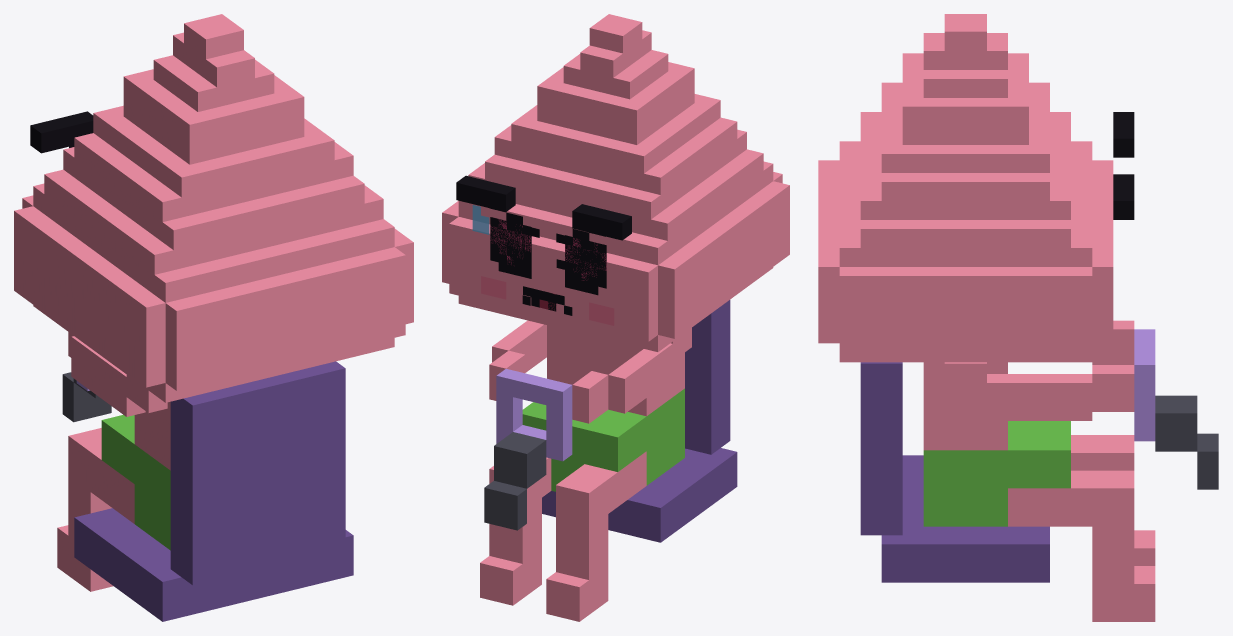
Rendered from personaje_patricio_piloto.obj.
3 views of the same model, side by side, from view 1: azimuth 30°, elevation 25°; view 2: azimuth 150°, elevation 25°; view 3: azimuth 270°, elevation 25° (orthographic). The views are drawn at different scales.
Visible parts, largest first — view 1: cabeza, asiento, falda, manga_izq, bota_izq, muslo_izq, cejas, torso, volante_columna, suela_izq, bota_izq_borde, brazo_izq; view 2: cabeza, asiento, falda, bota_izq, volante, torso, volante_columna, bota_der, cara_feliz_ojos, cejas, manga_izq, muslo_izq (+13 smaller); view 3: cabeza, asiento, falda, bota_der, torso, manga_der, muslo_der, volante_columna, volante, cejas, mano_der, brazo_der (+7 smaller).
Part boxes in pixels (left/top/right/bottom): cabeza: left=14, top=14, right=413, bottom=402; asiento: left=74, top=361, right=353, bottom=621; falda: left=101, top=414, right=170, bottom=550; manga_izq: left=82, top=344, right=145, bottom=416; bota_izq: left=57, top=456, right=111, bottom=571; muslo_izq: left=90, top=449, right=134, bottom=523; cejas: left=30, top=111, right=93, bottom=153; torso: left=134, top=401, right=170, bottom=470; volante_columna: left=62, top=372, right=111, bottom=422; suela_izq: left=57, top=548, right=113, bottom=591; bota_izq_borde: left=68, top=428, right=101, bottom=471; brazo_izq: left=126, top=375, right=167, bottom=412; cabeza: left=442, top=14, right=789, bottom=351; asiento: left=542, top=300, right=737, bottom=542; falda: left=522, top=388, right=684, bottom=491; bota_izq: left=546, top=497, right=608, bottom=604; volante: left=496, top=368, right=572, bottom=461; torso: left=547, top=325, right=684, bottom=416; volante_columna: left=484, top=432, right=546, bottom=530; bota_der: left=480, top=480, right=541, bottom=588; cara_feliz_ojos: left=498, top=219, right=598, bottom=295; cejas: left=456, top=175, right=631, bottom=240; manga_izq: left=618, top=343, right=672, bottom=406; muslo_izq: left=575, top=451, right=646, bottom=513; cabeza: left=818, top=14, right=1113, bottom=362; asiento: left=860, top=362, right=1049, bottom=582; falda: left=923, top=421, right=1070, bottom=526; bota_der: left=1092, top=507, right=1155, bottom=602; torso: left=923, top=362, right=1007, bottom=450; manga_der: left=987, top=374, right=1070, bottom=420; muslo_der: left=1008, top=470, right=1092, bottom=526; volante_columna: left=1155, top=395, right=1218, bottom=489; volante: left=1134, top=329, right=1155, bottom=441; cejas: left=1113, top=112, right=1134, bottom=219; mano_der: left=1092, top=365, right=1134, bottom=411; brazo_der: left=944, top=362, right=986, bottom=401.
Size of the model in its own units: 0.56 by 1.2 by 0.76.
